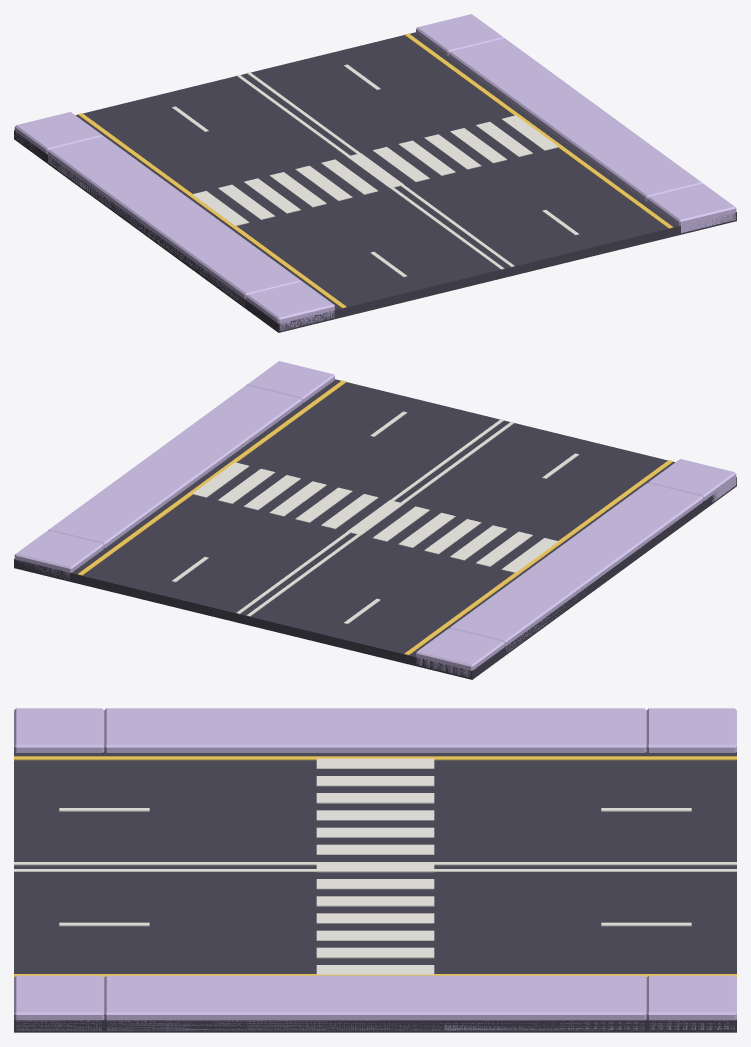
The model's file is road_crosswalk.glb.
3 renders of one model, top to bottom at view 1: azimuth 30°, elevation 25°; view 2: azimuth 150°, elevation 25°; view 3: azimuth 270°, elevation 25°, orthographic. The views are drawn at different scales.
Visible parts, largest first — view 1: road_crosswalk; view 2: road_crosswalk; view 3: road_crosswalk.
Boxes of the visible parts, x1,y1,x2,y2 form: road_crosswalk: [14, 14, 736, 332]; road_crosswalk: [14, 361, 736, 679]; road_crosswalk: [14, 708, 736, 1032].
Bounding box in the file's own units: 16 × 0.48 × 16.
